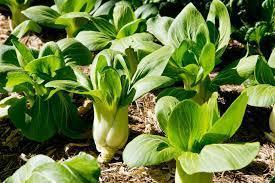Healthy-Pechay: (15, 15, 275, 140)
